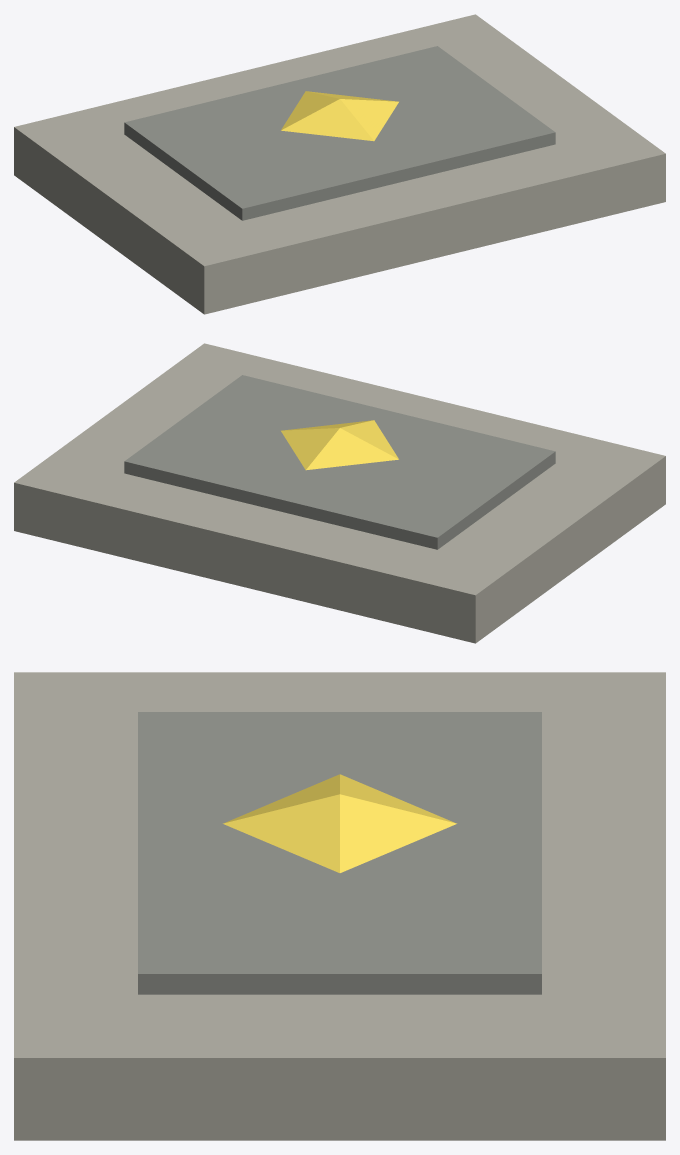
The model's file is pressure_plate.glb.
3 renders of one model, top to bottom at view 1: azimuth 30°, elevation 25°; view 2: azimuth 150°, elevation 25°; view 3: azimuth 270°, elevation 25°, orthographic. The views are drawn at different scales.
Visible parts, largest first — view 1: pressure_plate; view 2: pressure_plate; view 3: pressure_plate.
Boxes of the visible parts, x1,y1,x2,y2 form: pressure_plate: [14, 14, 665, 314]; pressure_plate: [14, 343, 665, 643]; pressure_plate: [14, 672, 665, 1140].
Size of the model in its own units: 1.4 by 0.26 by 1.
